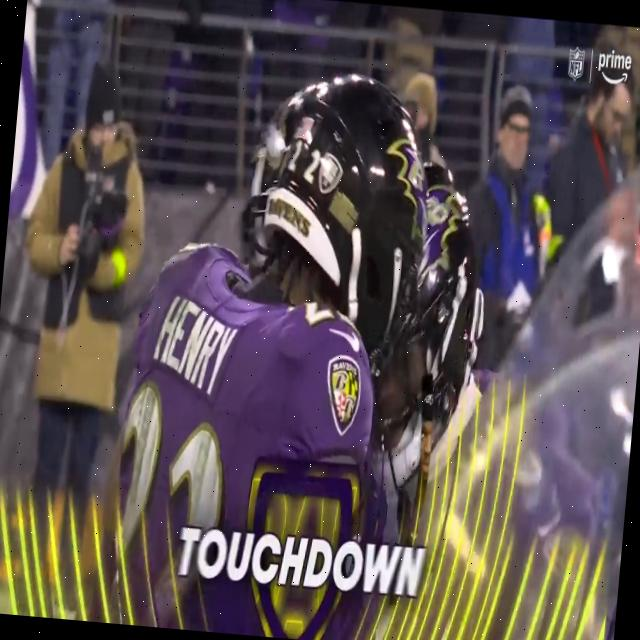Player: (118, 58, 424, 491)
